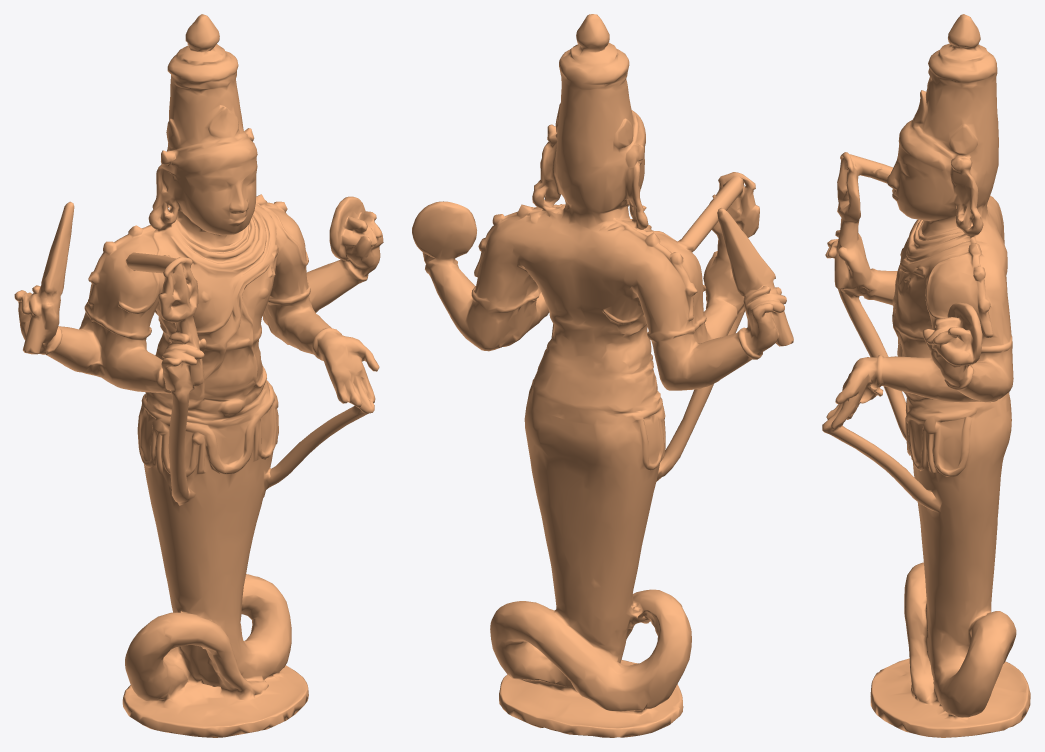
The model's file is Navagragangal_Raagu_Bagavaan_03.glb.
3 views of the same model, side by side, from view 1: azimuth 30°, elevation 25°; view 2: azimuth 150°, elevation 25°; view 3: azimuth 270°, elevation 25° (orthographic).
Parts seen in each view (by area): view 1: Navagragangal_Raagu_Bagavaan_03; view 2: Navagragangal_Raagu_Bagavaan_03; view 3: Navagragangal_Raagu_Bagavaan_03.
Part boxes in pixels (x1=…): Navagragangal_Raagu_Bagavaan_03: x1=14, y1=14, x2=383, y2=737; Navagragangal_Raagu_Bagavaan_03: x1=412, y1=14, x2=793, y2=737; Navagragangal_Raagu_Bagavaan_03: x1=822, y1=14, x2=1030, y2=737.
Size of the model in its own units: 1.79 by 3.23 by 0.8949.
